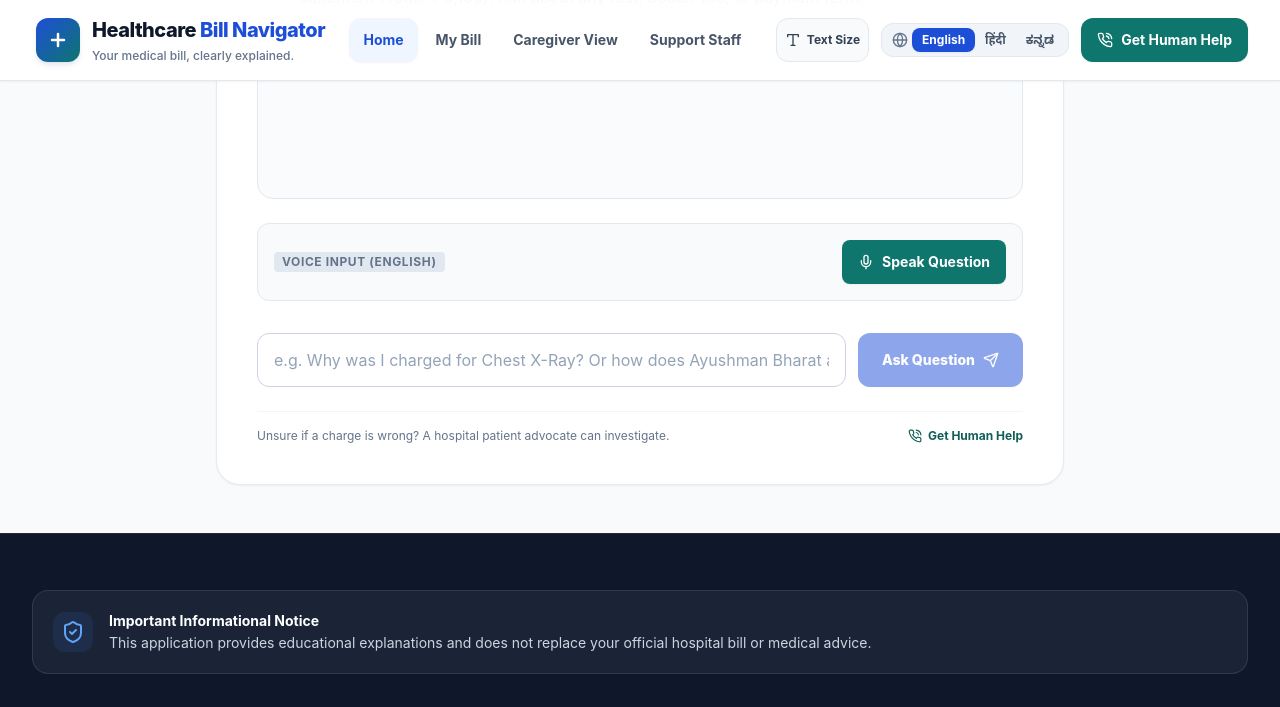
Test case: QuestionsPage › handles out-of-scope medical disease question with a clear refusal notice
(page scrolled)
Replace the text in the field named "Type or speak your question" with "Can this medicine cure my cancer disease?" at coordinates (551, 360), box [257,333,846,387]
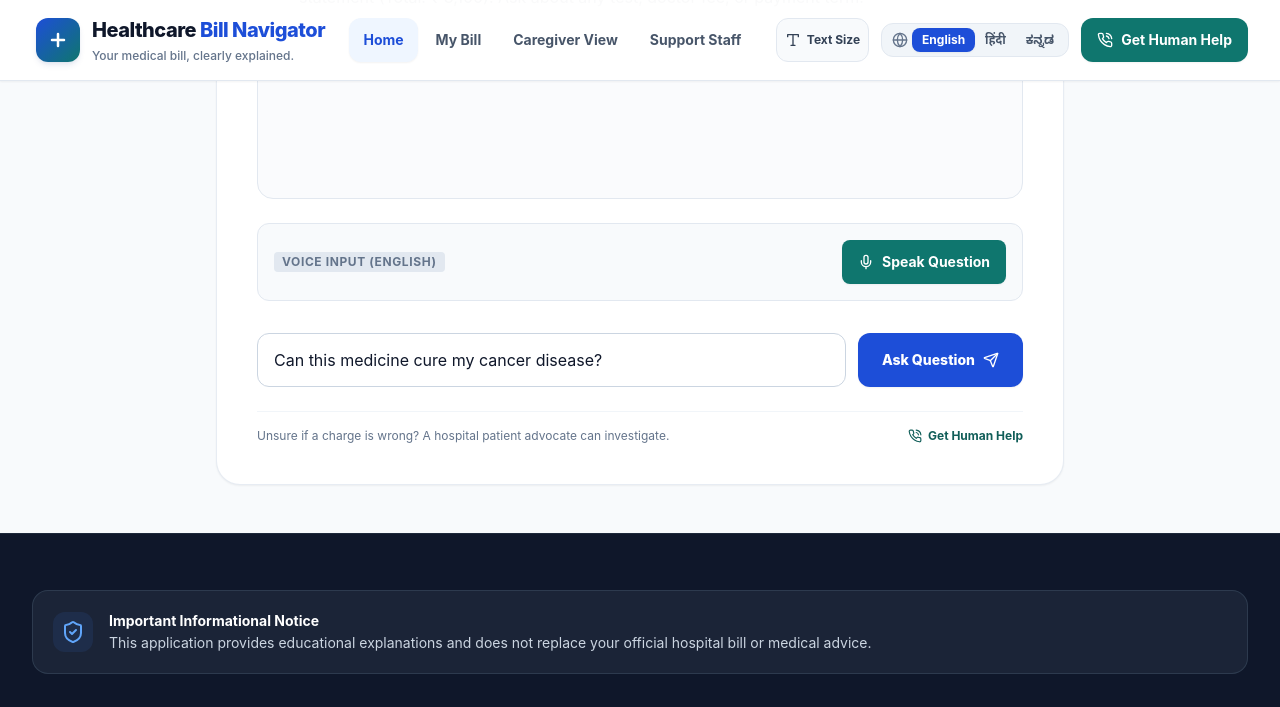
Click the button "Ask Question" at coordinates (940, 360), box [858,333,1023,387]
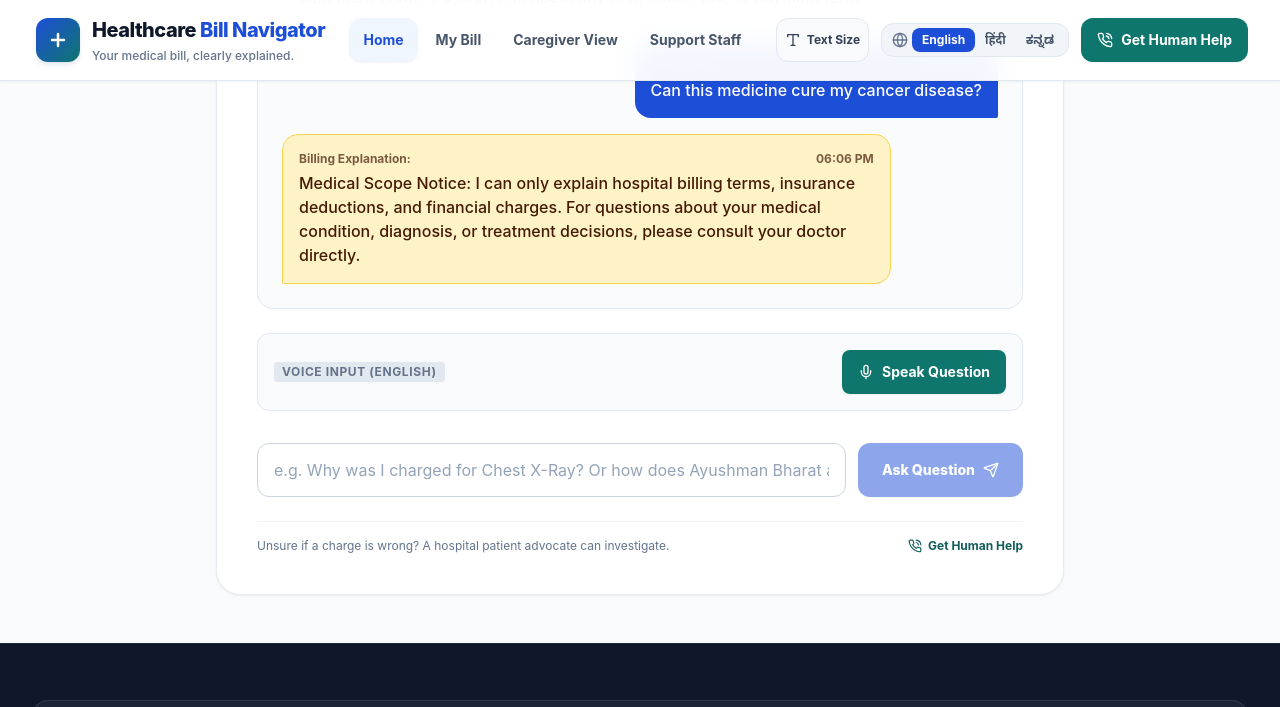
Expected: the text "Medical Scope Notice: I can only explain hospital billing terms" is shown, [299,173,855,265]
